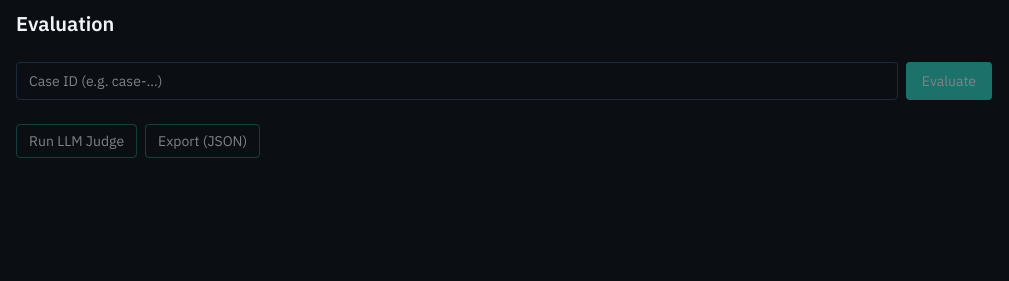
Evaluation page › evaluates a case and renders metrics
In the field with placeholder "Case ID (e.g. case-…)": (457, 81) [16,62,898,100], type "case-1"
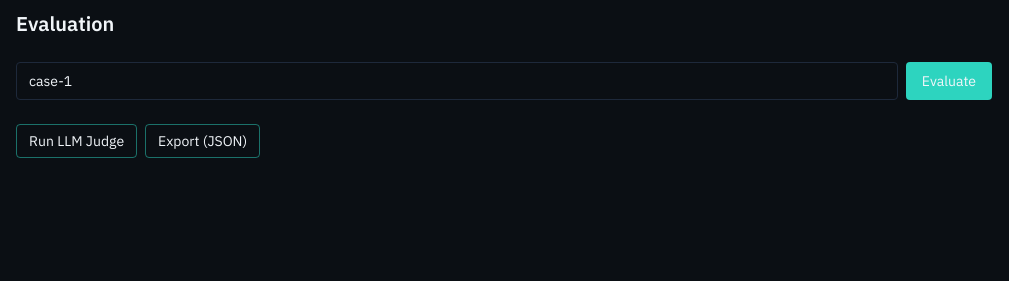
Click the button "Evaluate": (949, 81) [906,62,992,100]
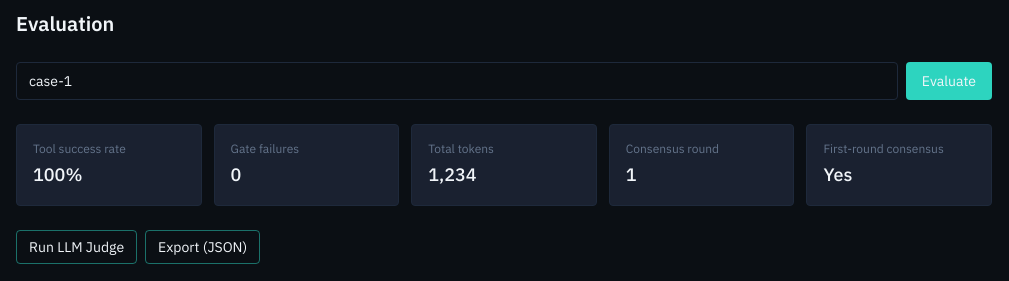
Expected: the text "100%" is shown, [33,163,82,186]
Expected: the text "1,234" is shown, [428,163,477,186]
Expected: the text "First-round consensus" is shown, [823,141,944,156]
